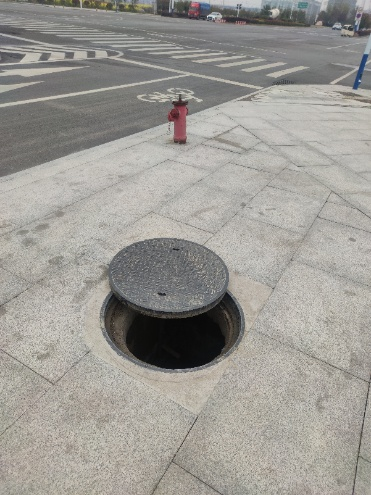uncovered: (100, 237, 246, 373)
